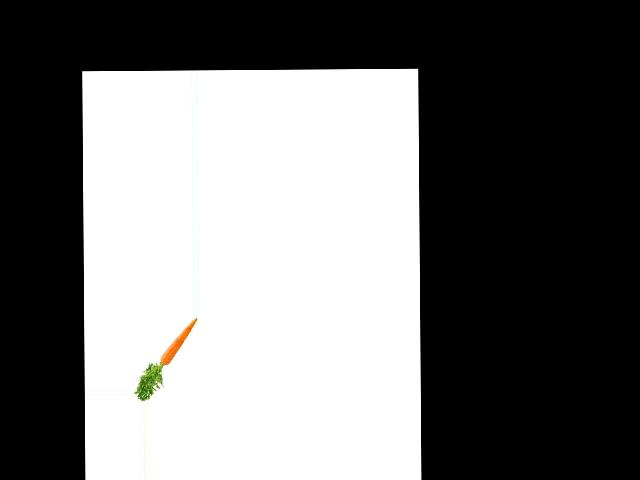carrot: (158, 316, 199, 370)
